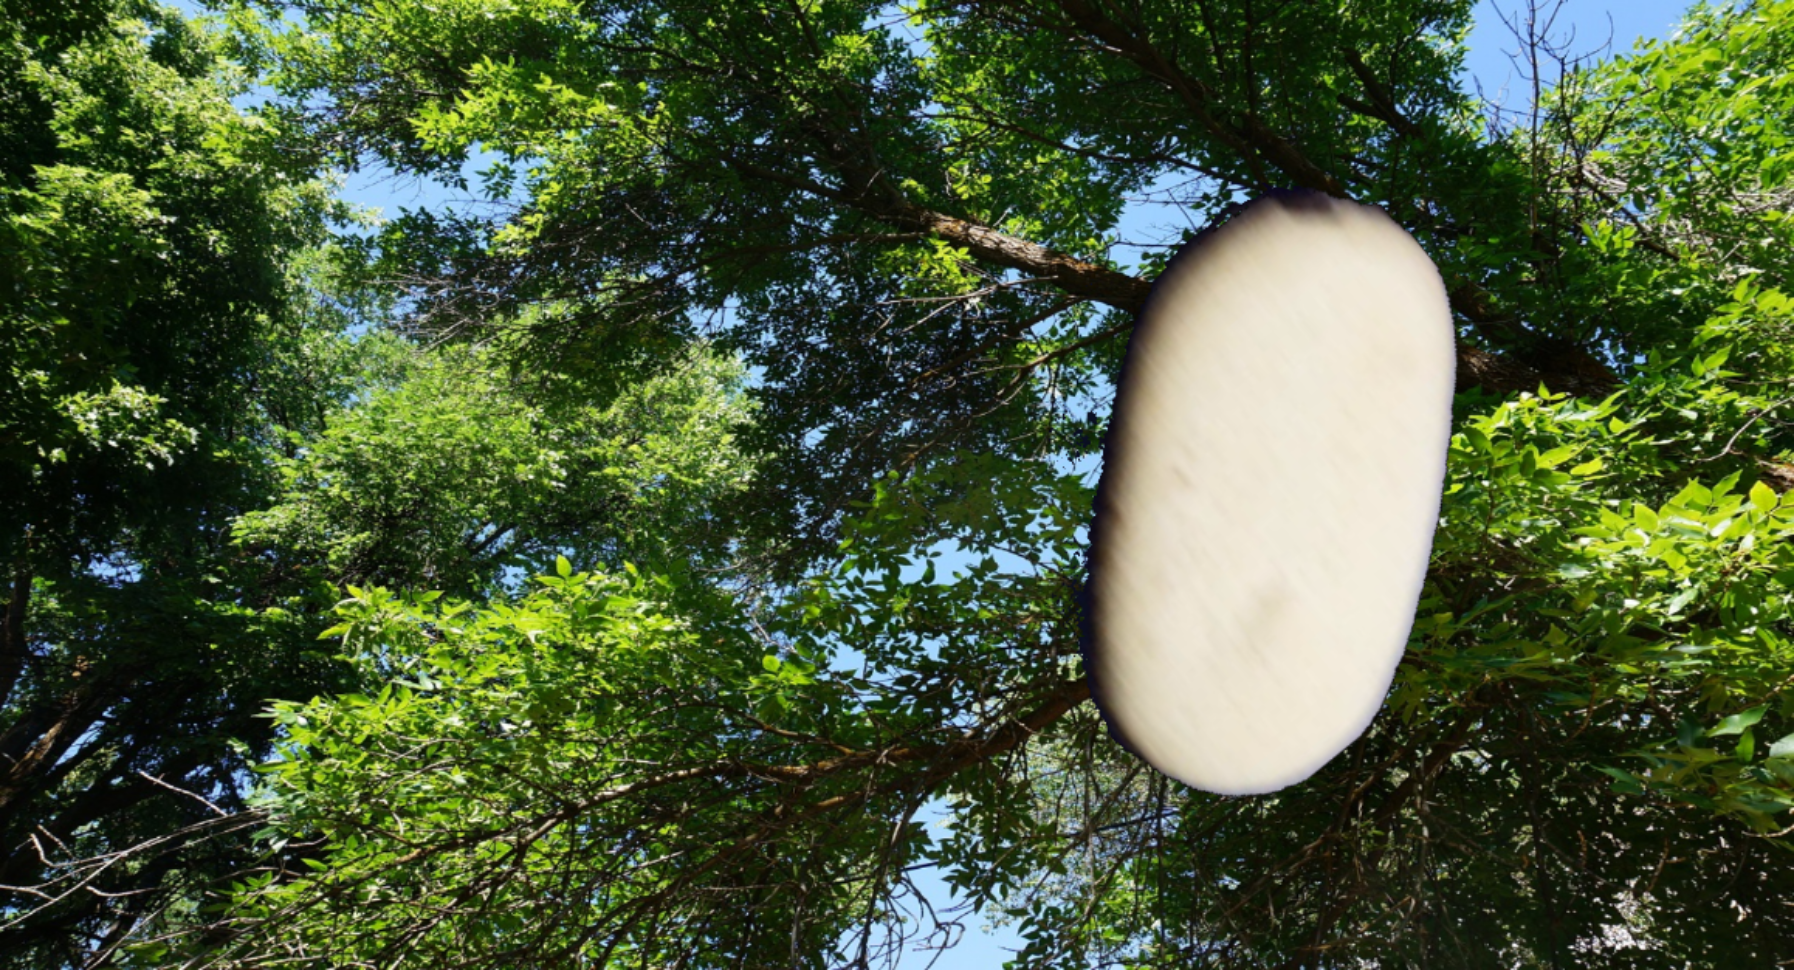test: (870, 96, 1640, 862)
